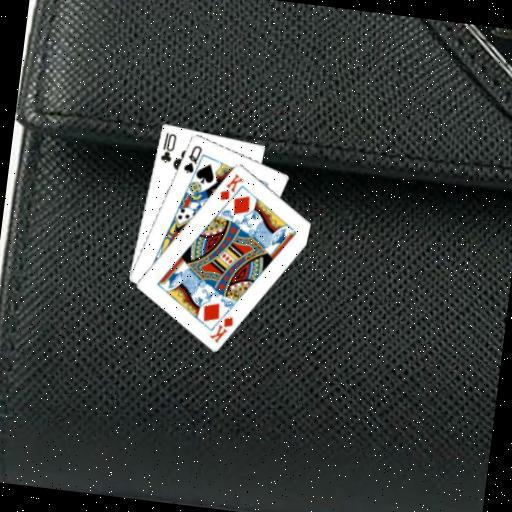10C: (156, 128, 178, 165)
KD: (217, 169, 247, 204), (206, 311, 235, 346)
QS: (180, 141, 204, 177)
